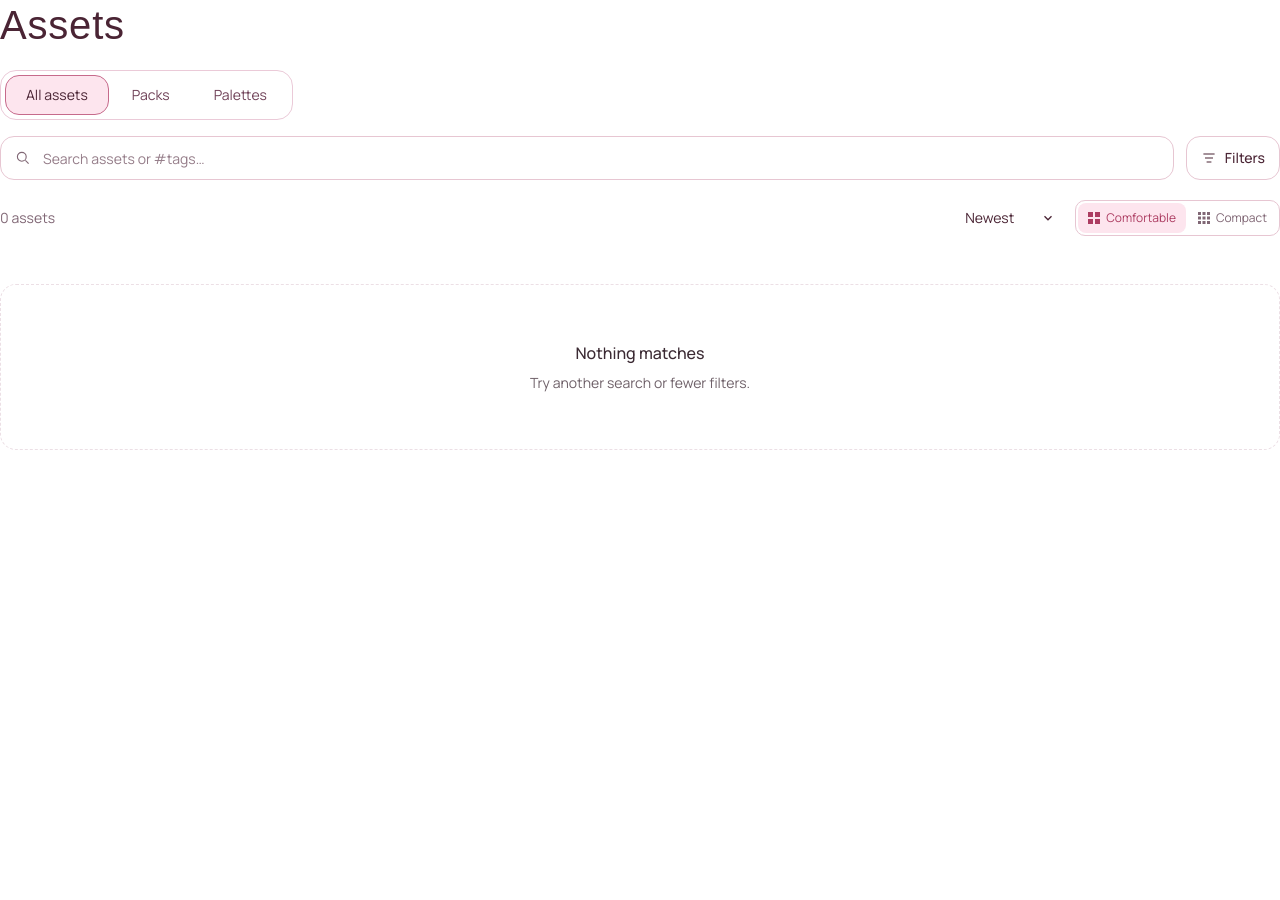
Test case: shows server-verified matching asset counts in the drawer
Click the button "Filters" at [1233, 158], box [1186,136,1279,180]
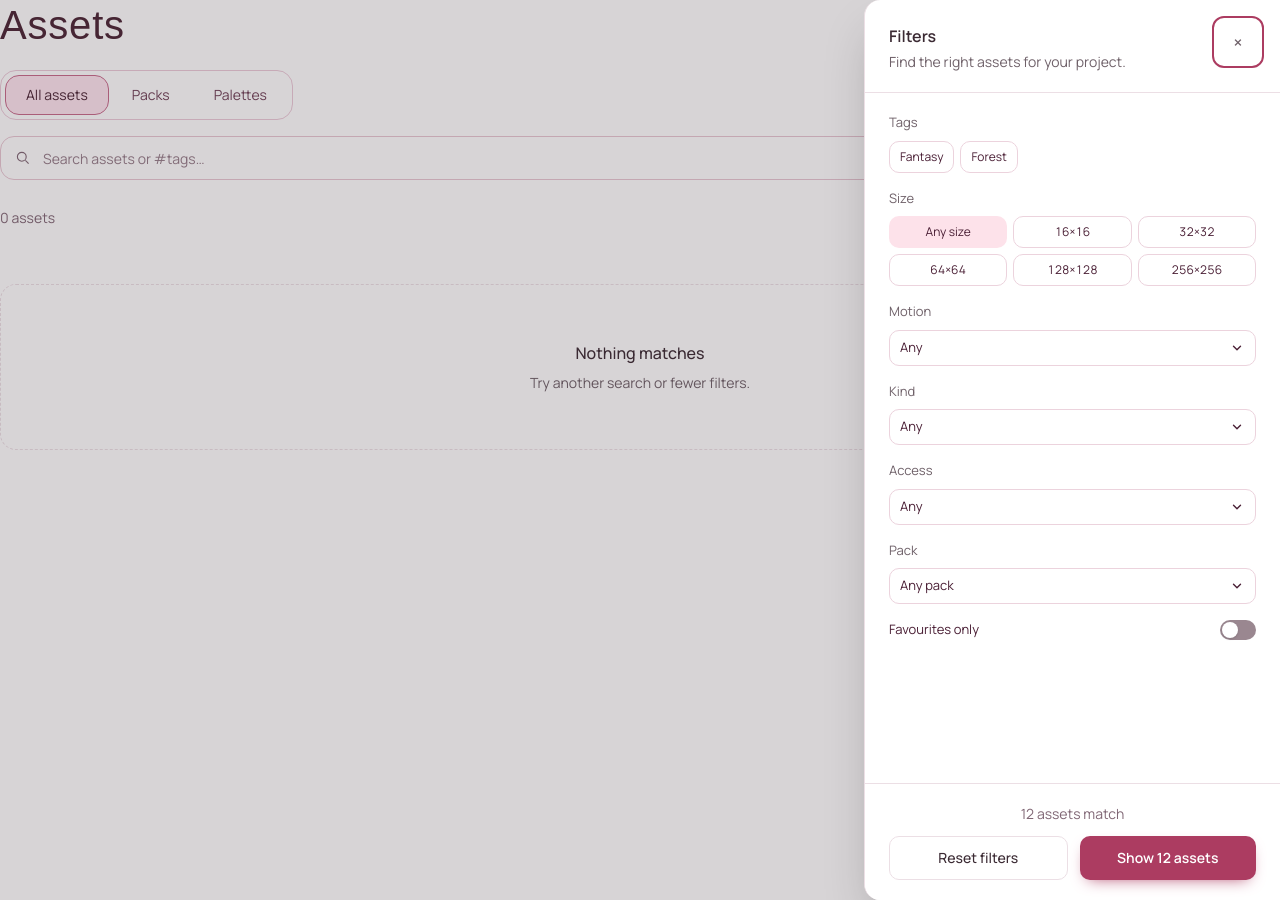
Check: the button "Show 12 assets" is enabled, box [1080,836,1256,880]
